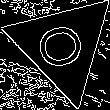O_E: (33, 19, 93, 73)
